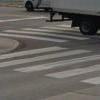Crosswalk: (6, 24, 94, 100)
